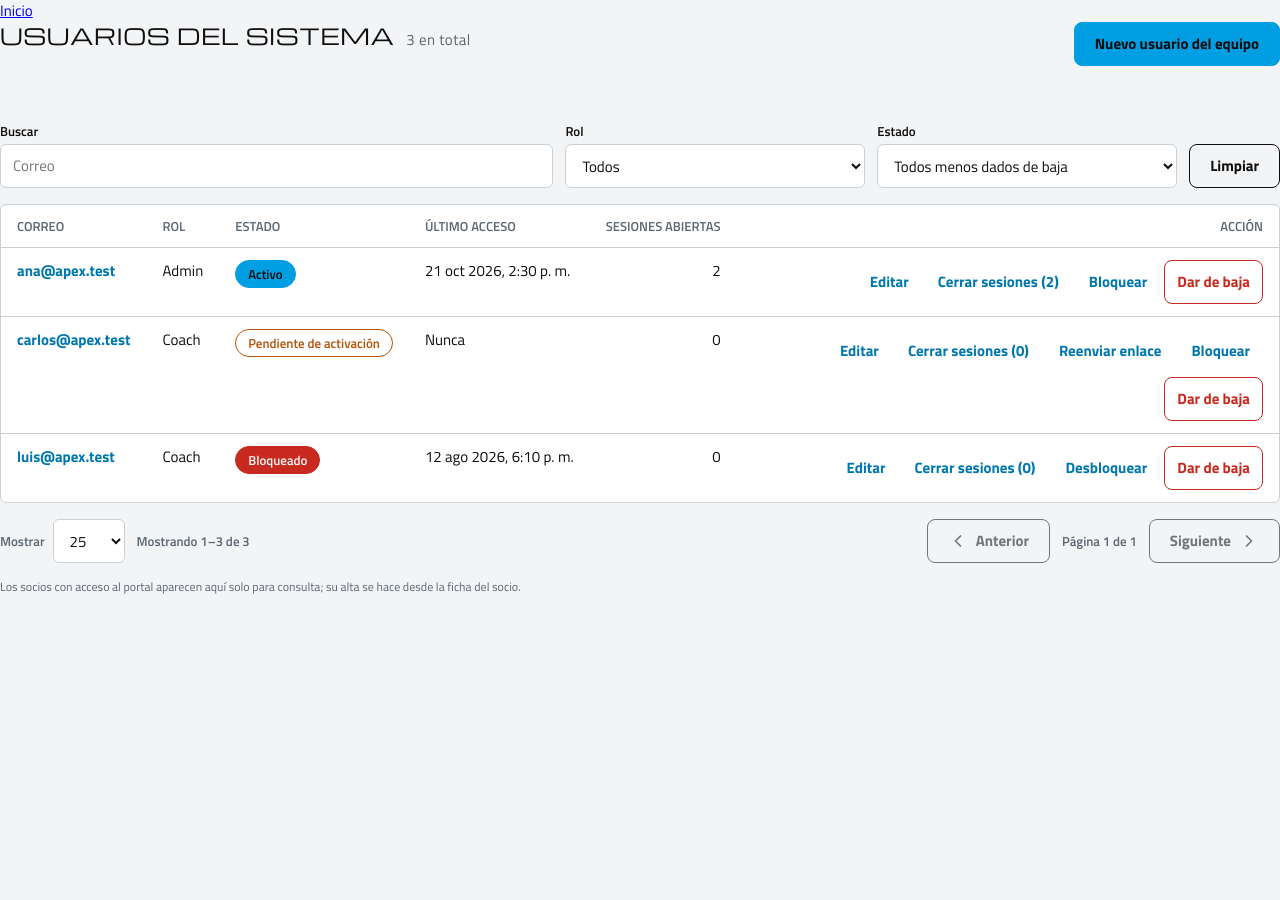
Test case: UsersPage · alta › 'Nuevo usuario del equipo' abre el panel de alta
The width and height of the screenshot is (1280, 900).
Click the button "Nuevo usuario del equipo" at (1177, 44), box top-left (1074, 22), bottom-right (1279, 66)
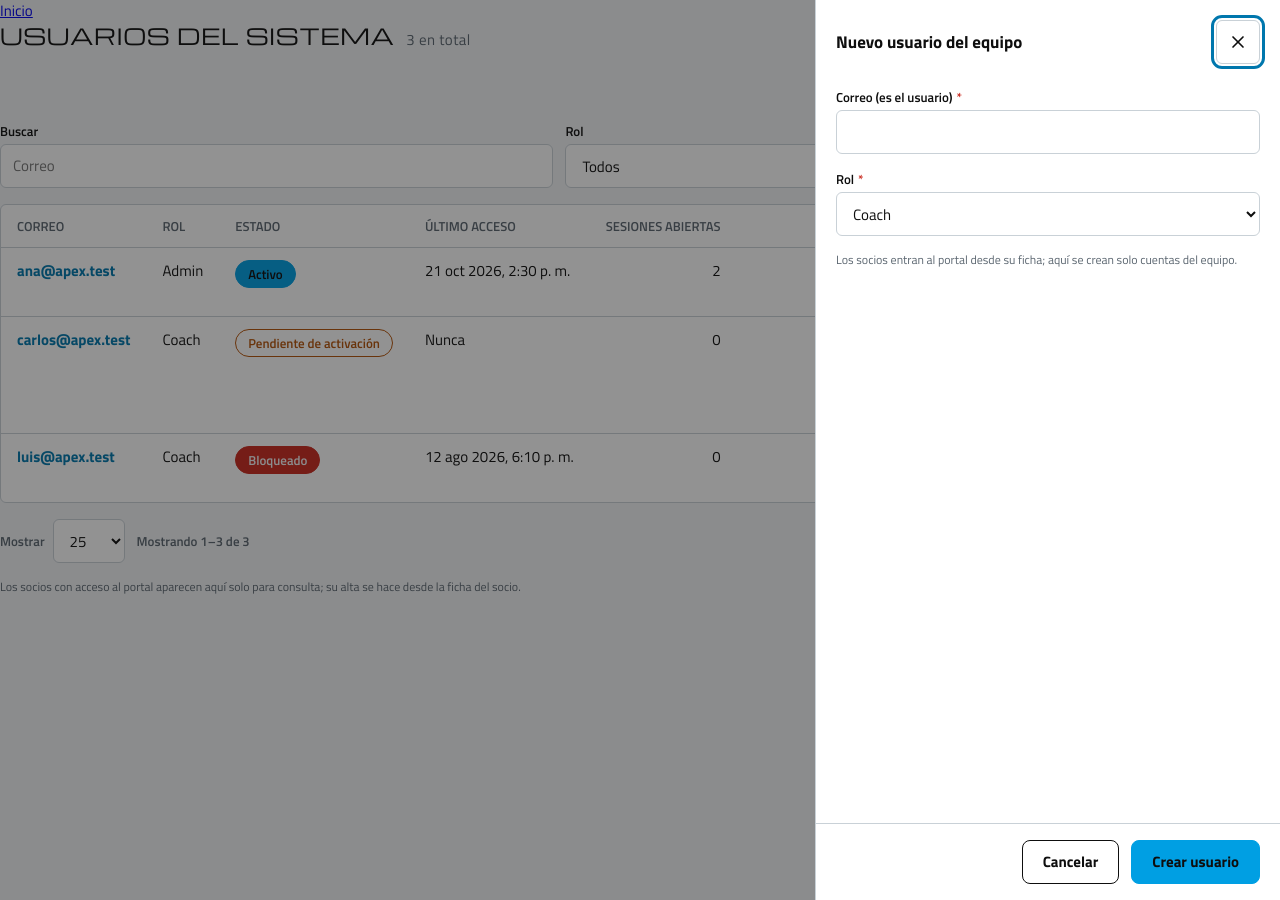
Now the dialog "Nuevo usuario del equipo" is shown, box top-left (815, 0), bottom-right (1279, 899)
